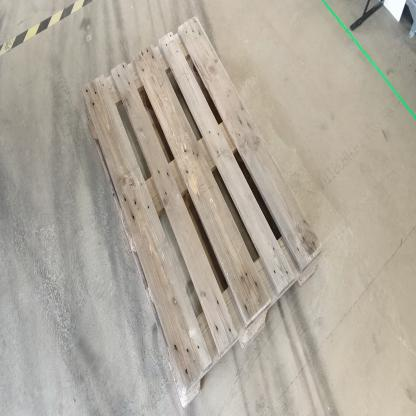BoxFace: (77, 9, 325, 414)
